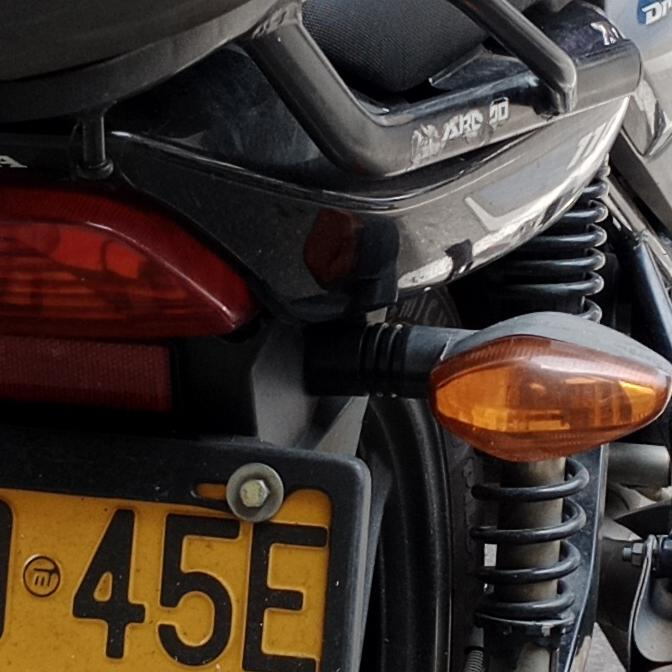plates: (0, 430, 367, 672)
